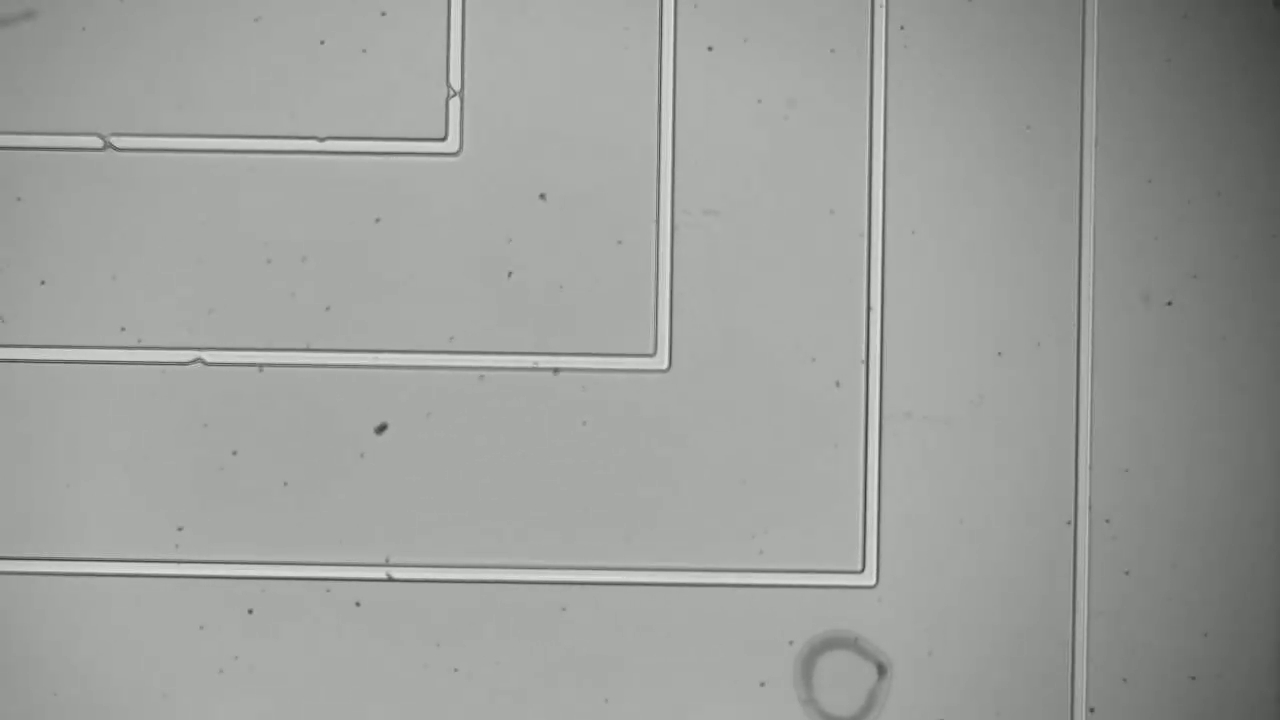edge_bite: (181, 338, 219, 375), (438, 72, 469, 105)
open: (91, 125, 125, 157)
